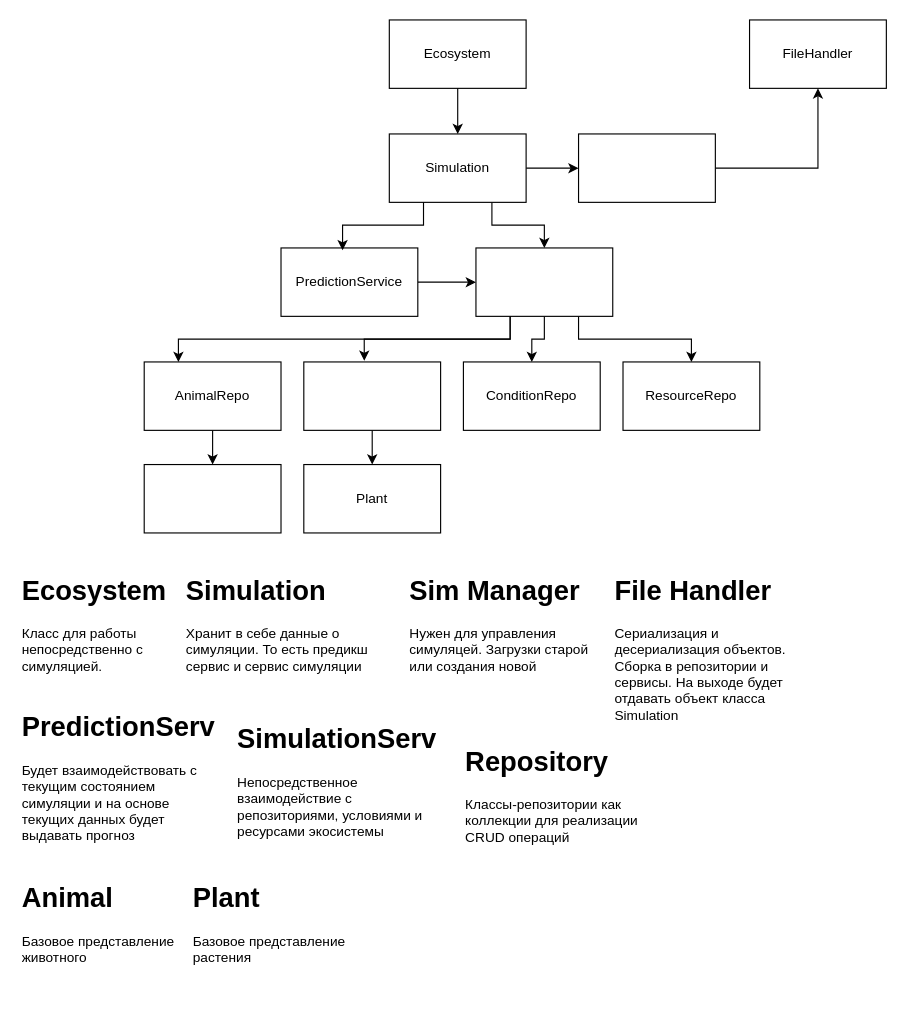
This 906x1035 diagram has some shape labels left out. The box of each missing label's shape, as (x1, y1, x2, y2) in pixels:
Animal: (143, 463, 281, 533)
PlantRepo: (303, 361, 441, 430)
SimulationManager: (577, 133, 715, 202)
SimulationService: (475, 247, 613, 316)
